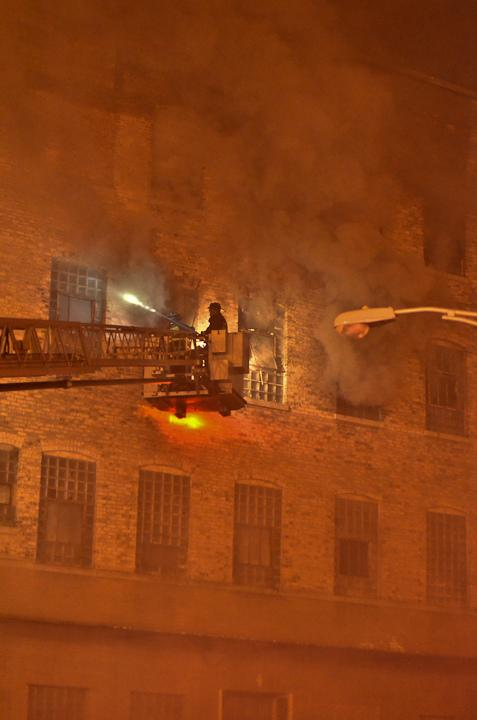fire: (164, 400, 200, 438)
